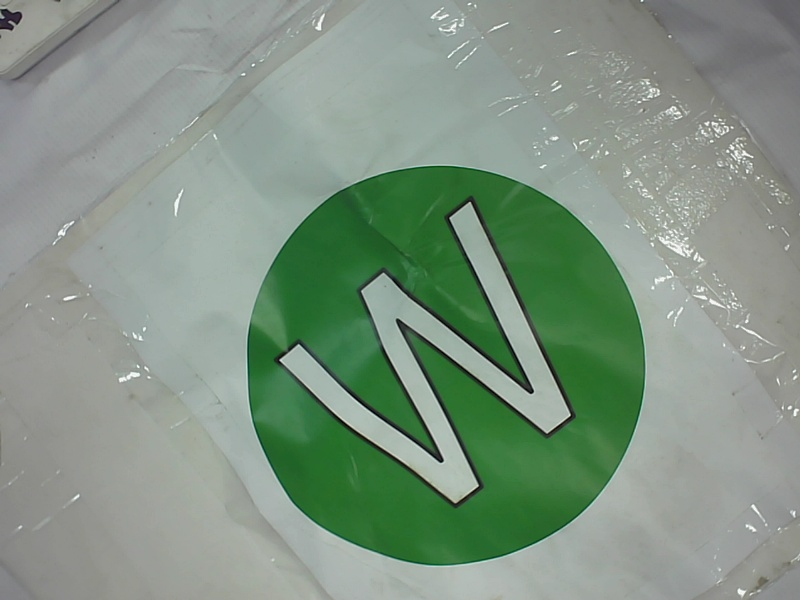areaB: (225, 153, 651, 570)
